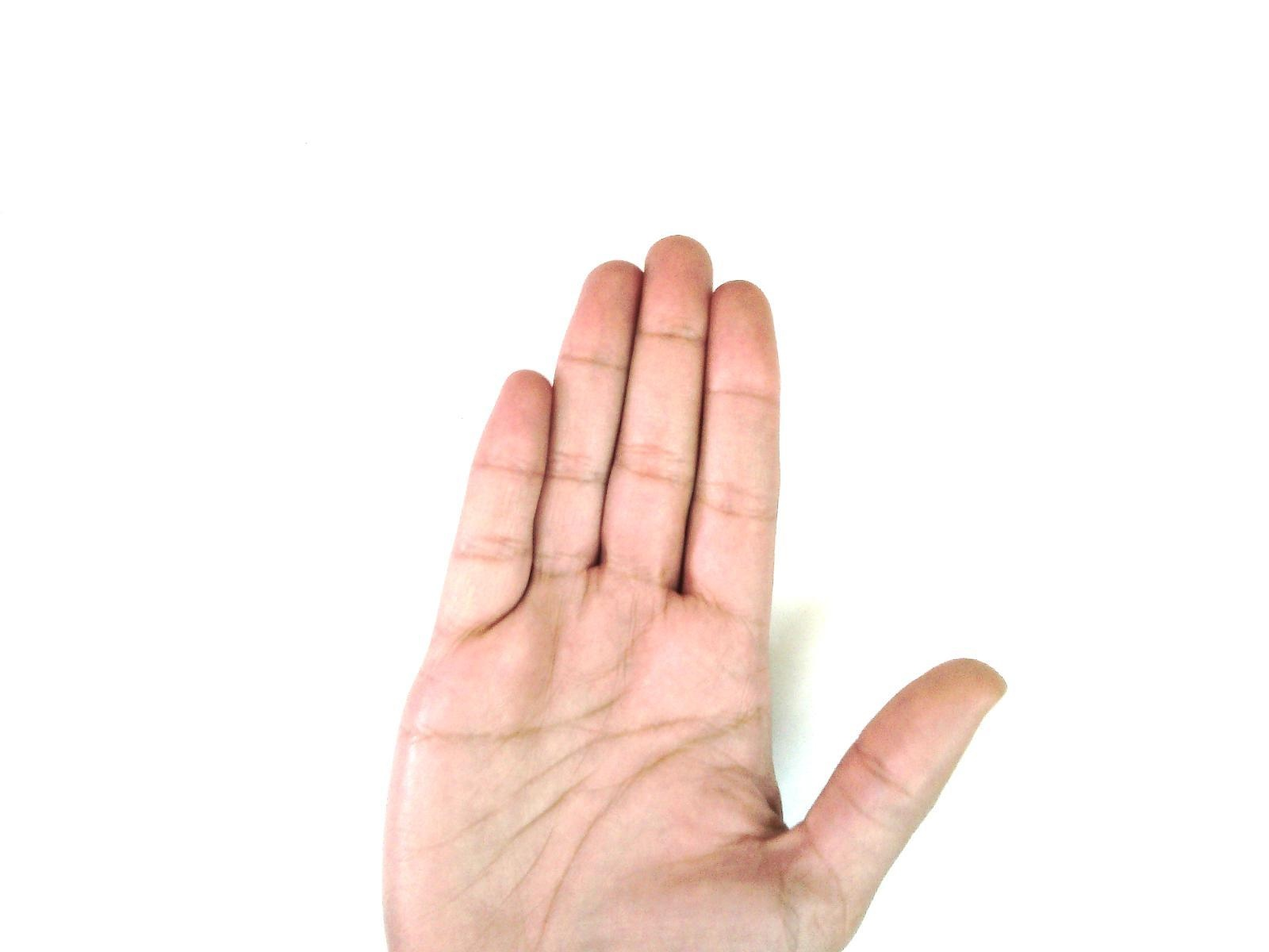open_palm: (378, 233, 1010, 951)
